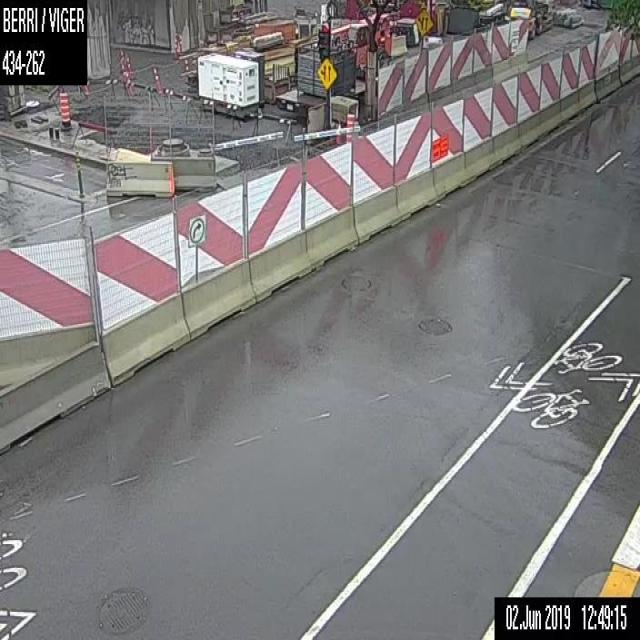construction: (0, 0, 639, 453), (345, 112, 353, 142), (336, 118, 342, 143)
vehicle: (58, 90, 71, 131)
